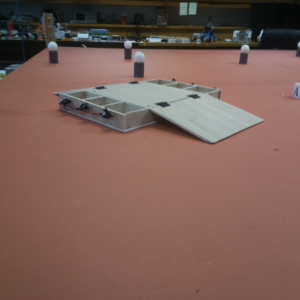blockA: (290, 81, 300, 99)
corner: (42, 12, 59, 41)
obstacle: (133, 51, 146, 78), (237, 42, 251, 65), (47, 41, 59, 66), (122, 39, 133, 61)
side: (58, 91, 141, 133), (155, 75, 212, 92)
slope: (159, 91, 253, 143)
